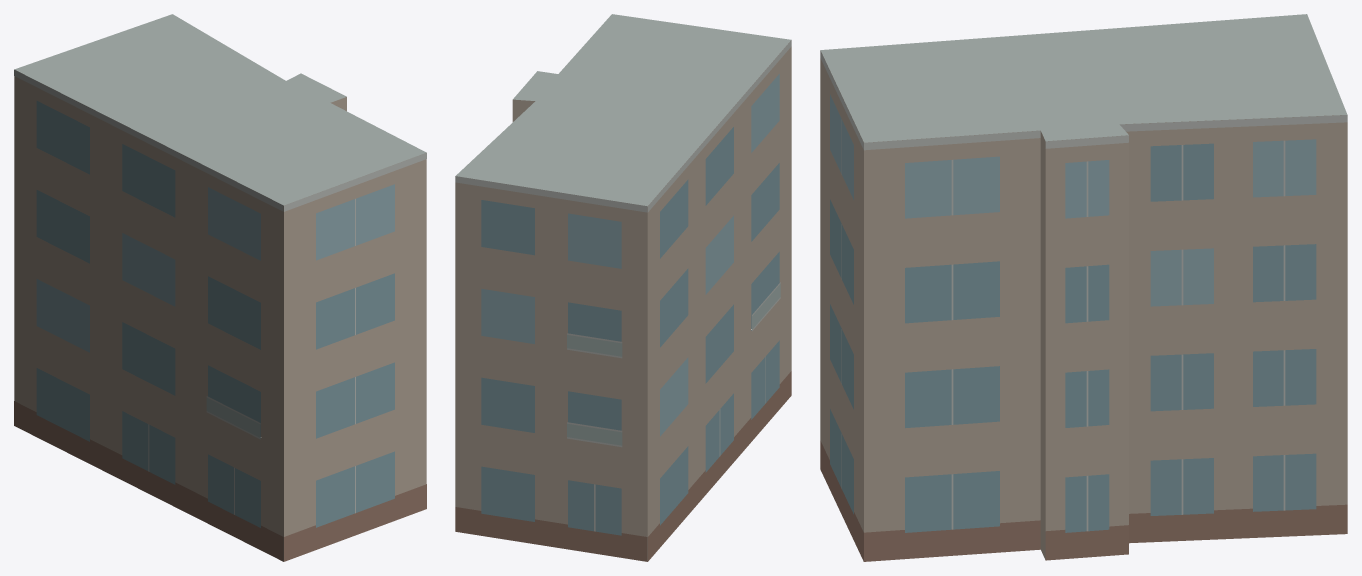
The model's file is survey-upis-32761407.glb.
3 renders of one model, left to right at view 1: azimuth 30°, elevation 25°; view 2: azimuth 150°, elevation 25°; view 3: azimuth 270°, elevation 25°, orthographic. The views are drawn at different scales.
Parts seen in each view (by area): view 1: survey-upis-32761407.tmp; view 2: survey-upis-32761407.tmp; view 3: survey-upis-32761407.tmp.
Boxes of the visible parts, x1=… form: survey-upis-32761407.tmp: x1=14, y1=14, x2=426, y2=561; survey-upis-32761407.tmp: x1=455, y1=14, x2=791, y2=561; survey-upis-32761407.tmp: x1=820, y1=14, x2=1347, y2=561.
Size of the model in its own units: 8.93 by 13.55 by 15.46.
